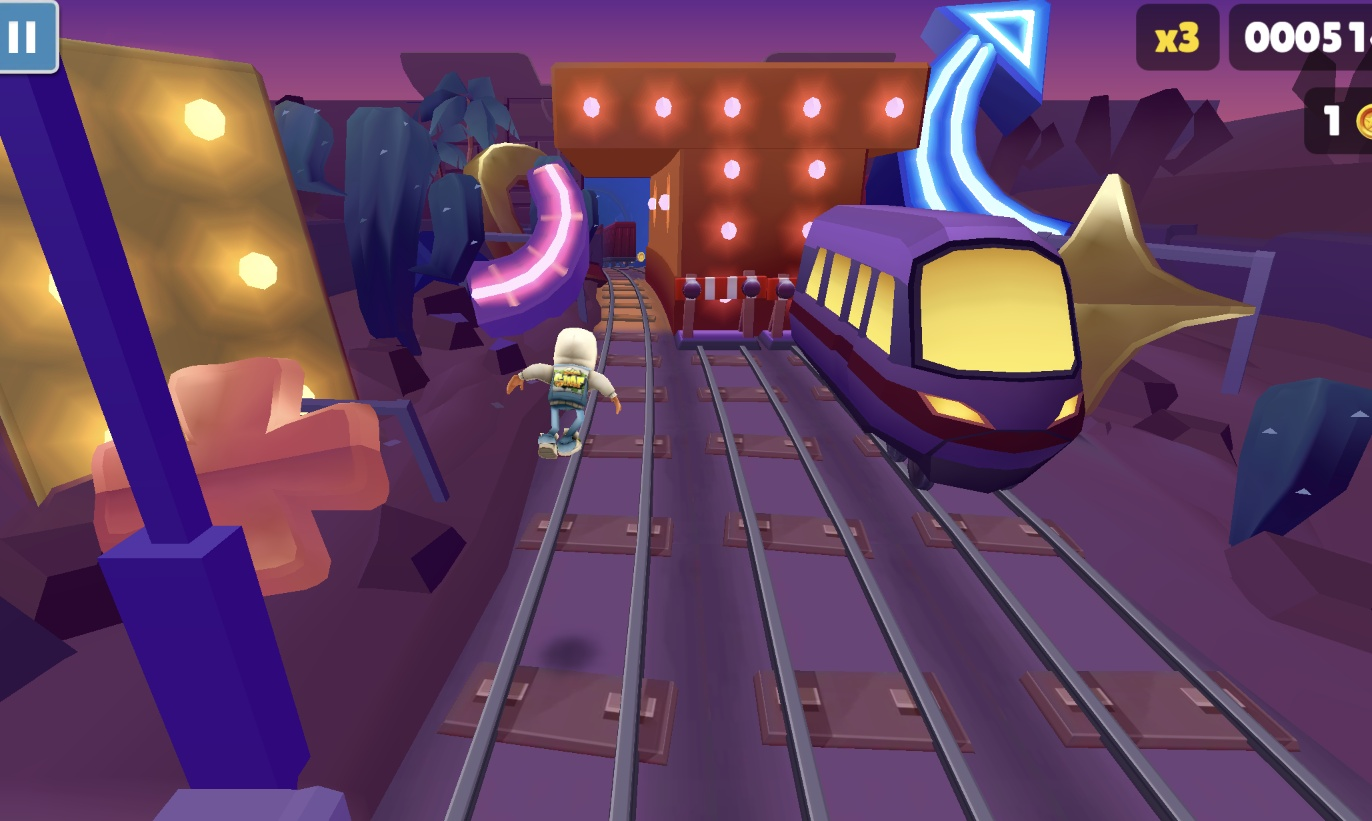ground_barrier: (673, 272, 763, 347), (755, 272, 803, 346)
pillar: (646, 145, 873, 340)
train: (787, 205, 1093, 495), (599, 221, 644, 275)
